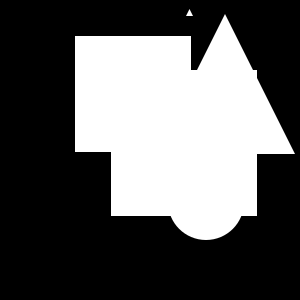circle: (111, 70, 257, 216), (75, 36, 191, 152)
rectangle: (168, 164, 244, 240)
triangle: (155, 14, 295, 154), (186, 9, 193, 16)
